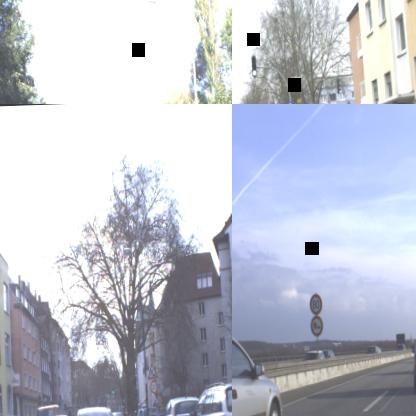CONSTRUCTION: (146, 362, 158, 380)
go right: (287, 100, 294, 104)
no overtaking: (310, 314, 324, 336)
speed limit 30: (150, 380, 158, 394)
speed limit 80: (309, 293, 323, 315)
